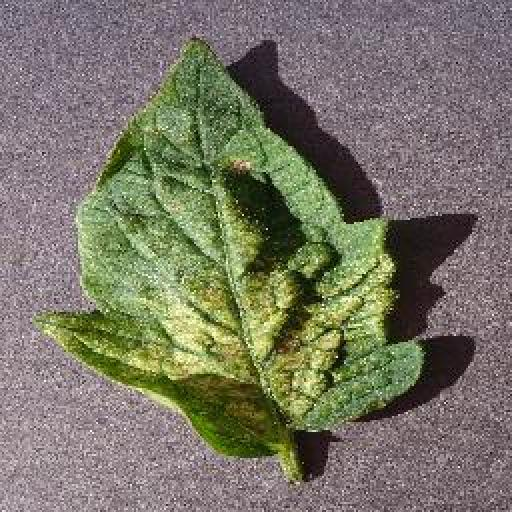Spider Mites: (39, 35, 426, 460)
